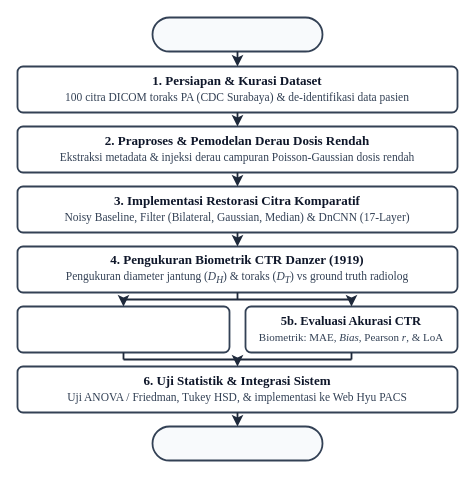
Image size: 476x479. Some labels were removed from this diagram. The centre of each missing label's shape, as x and y in pixels:
5a. Evaluasi Kualitas Citra Metrik: PSNR, SSIM, SNR Gain, & Latensi: the point at 123,329
Mulai Penelitian: the point at 237,34
Selesai / Laporan Skripsi: the point at 237,443
